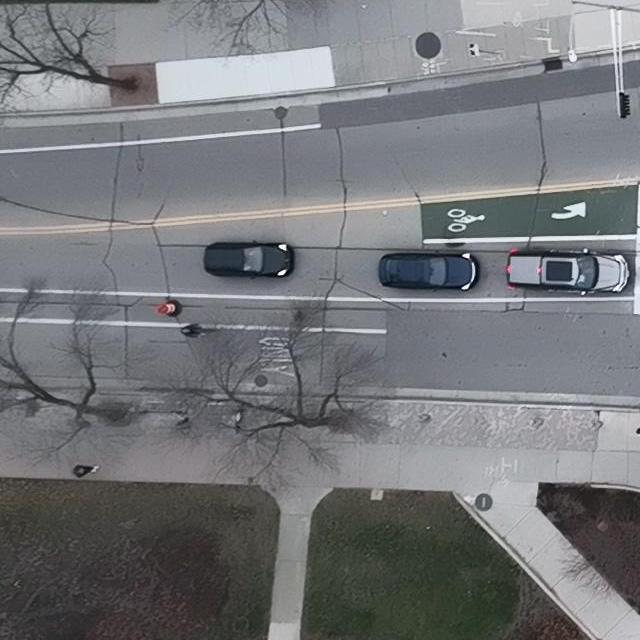car: (505, 246, 630, 296), (379, 250, 480, 291), (203, 239, 295, 281)
